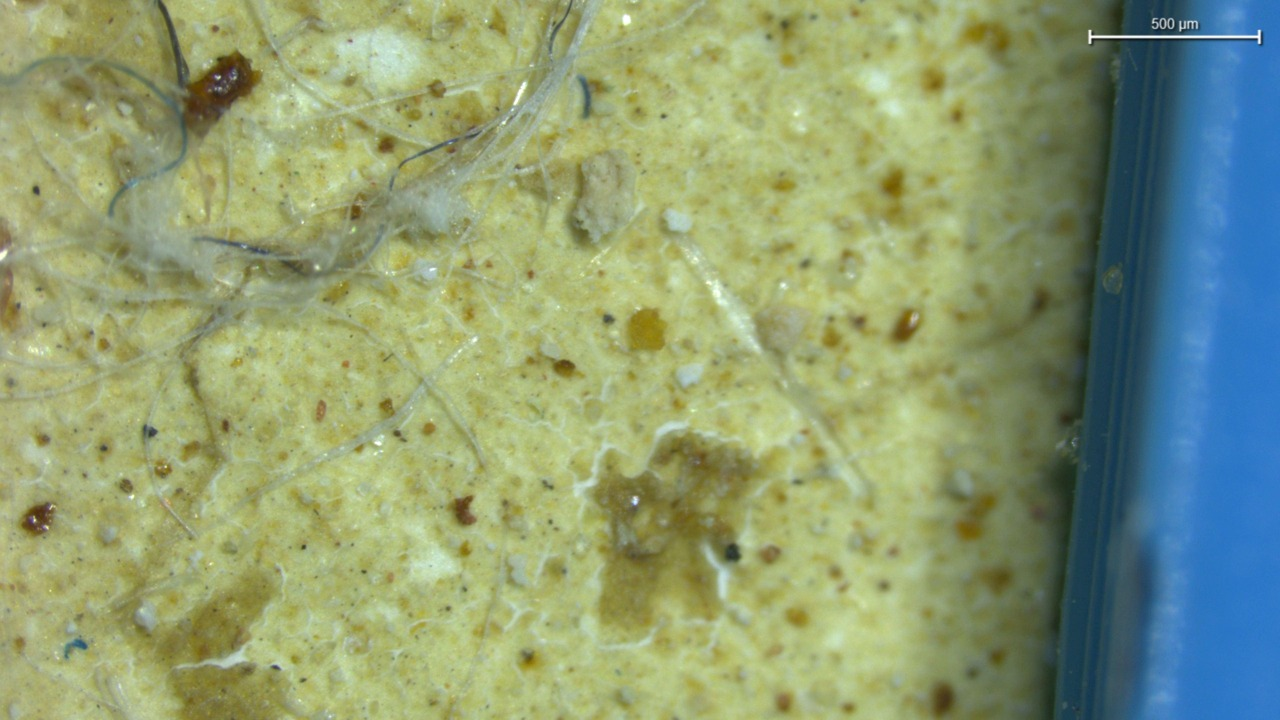microplastic_fragment: (573, 150, 636, 244), (675, 363, 704, 389), (662, 208, 692, 233)
